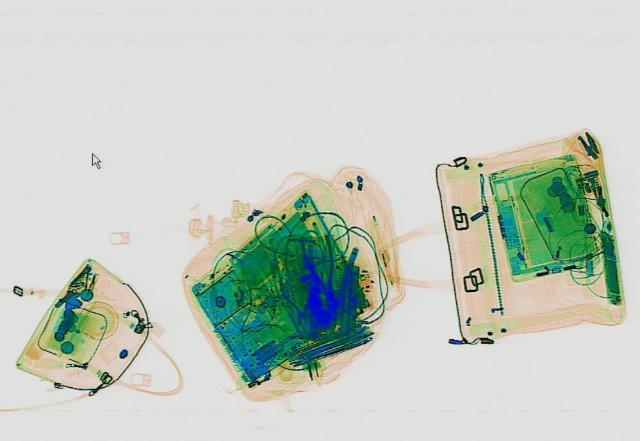Pliers: (294, 234, 350, 309), (276, 272, 320, 323)
